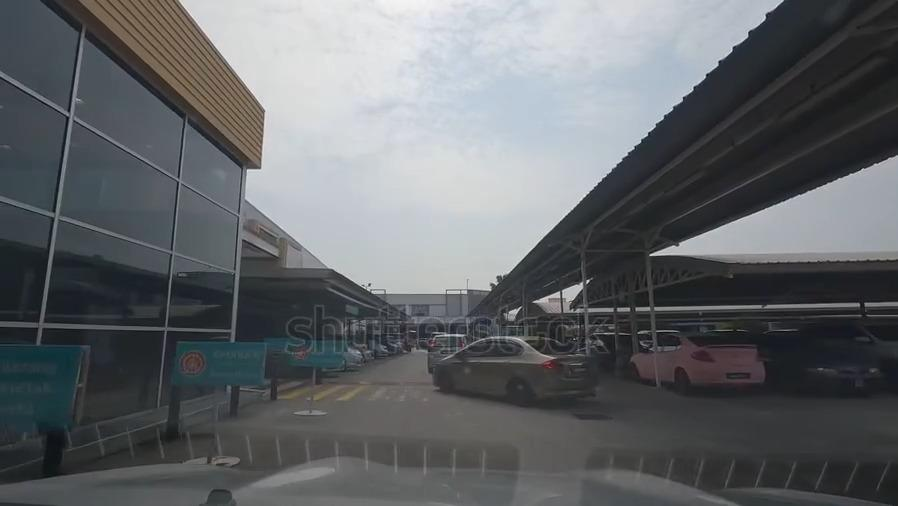car: (431, 339, 592, 399), (738, 332, 880, 391), (625, 339, 764, 390), (829, 319, 898, 364), (580, 333, 642, 359), (434, 334, 464, 365), (426, 329, 444, 344)
manhole: (570, 407, 614, 423)
pedestrian: (269, 388, 503, 405)
speedbump: (329, 376, 434, 388)
wheel: (507, 378, 531, 406), (437, 368, 452, 391)
